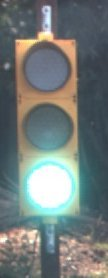Green: (5, 26, 83, 235)
